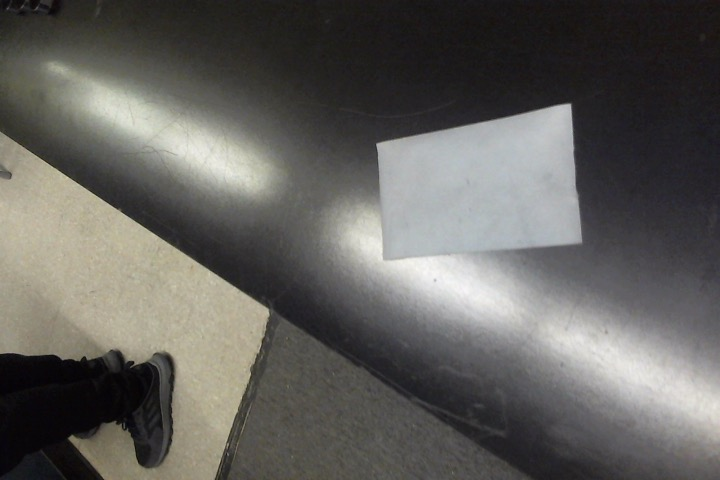Tape: (375, 103, 584, 261)
